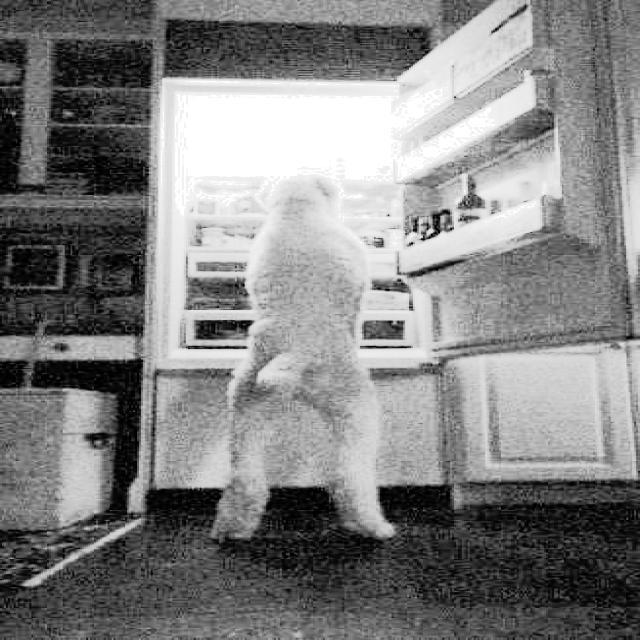Dog: (204, 161, 480, 549)
